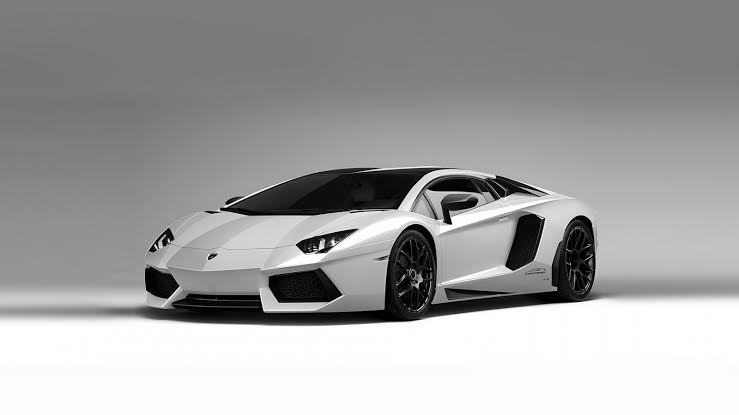audi: (134, 162, 602, 324)
